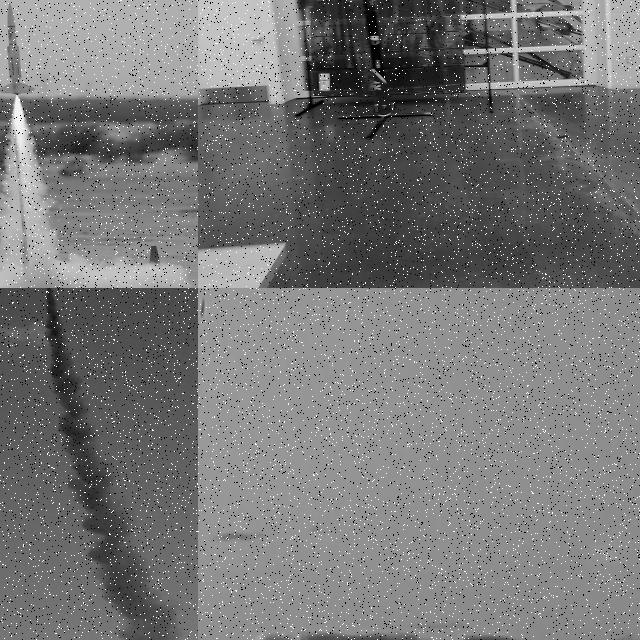Rocket: (363, 0, 397, 115), (0, 1, 37, 94), (200, 298, 204, 316)
